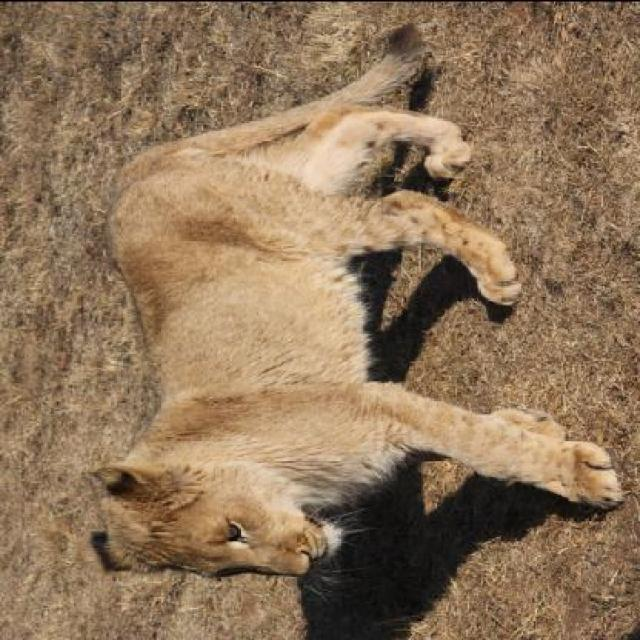Lion: (71, 20, 635, 595)
